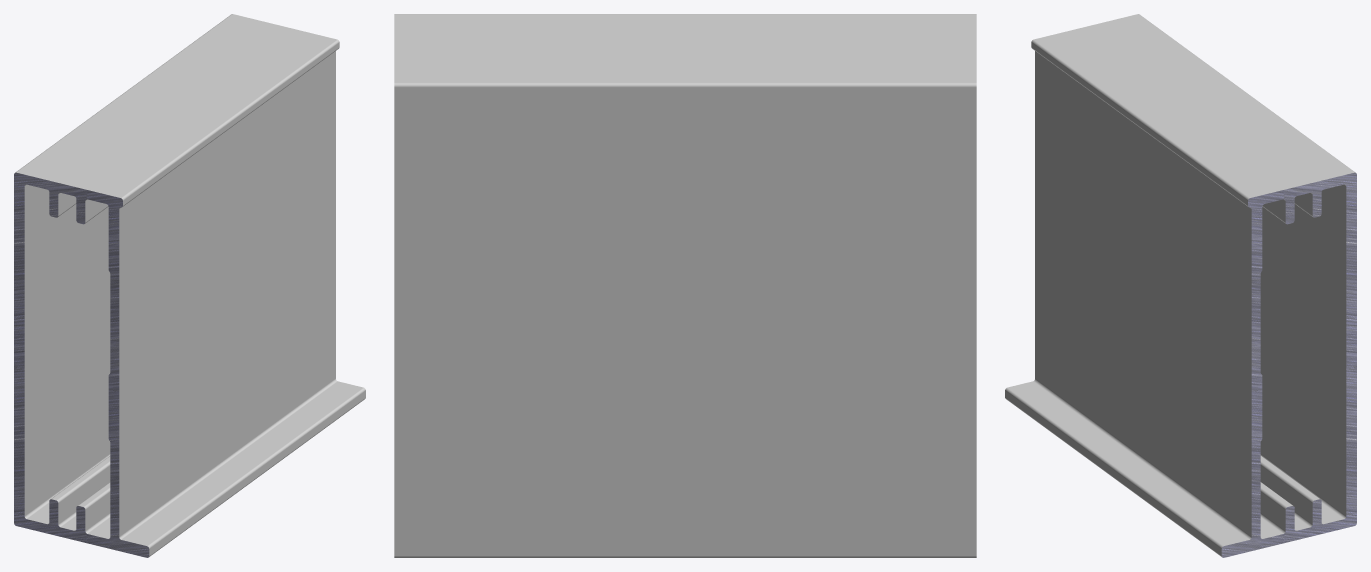
3 views of the same model, side by side, from view 1: azimuth 30°, elevation 25°; view 2: azimuth 150°, elevation 25°; view 3: azimuth 270°, elevation 25° (orthographic). The views are drawn at different scales.
Visible parts, largest first — view 1: 3446; view 2: 3446; view 3: 3446.
Part boxes in pixels (<box>): 3446: <box>14,14,365,557</box>; 3446: <box>394,14,976,557</box>; 3446: <box>1005,14,1356,557</box>.
Bounding box in the file's own units: 0.0523 × 0.045 × 0.0406.
2 materials, 1 textured.
